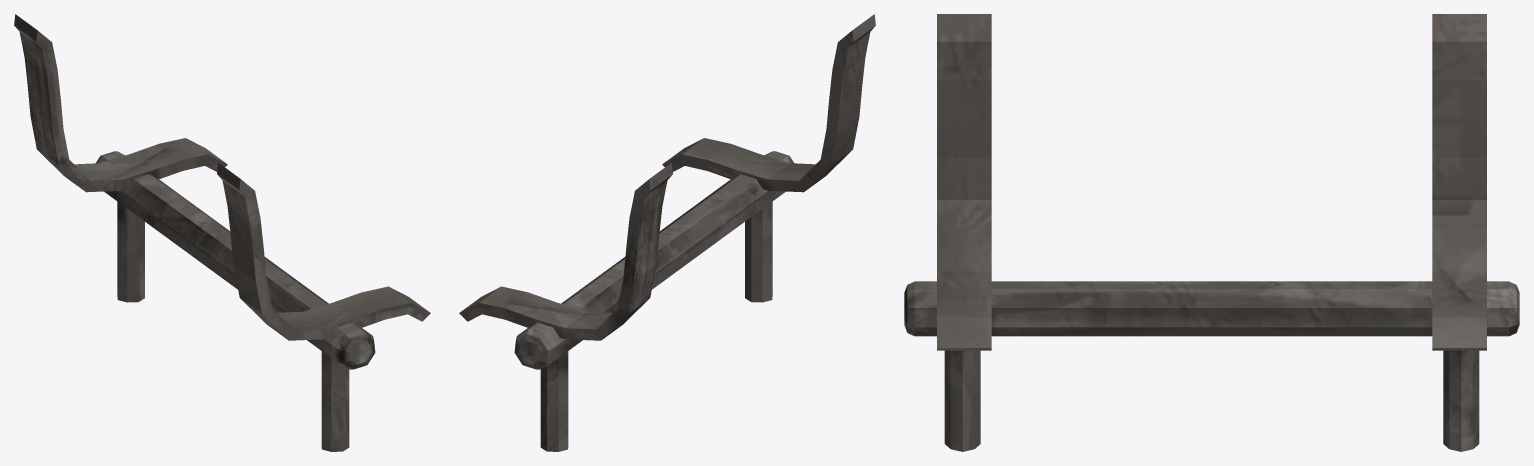
The model's file is strProp_19.glb.
3 renders of one model, left to right at view 1: azimuth 30°, elevation 25°; view 2: azimuth 150°, elevation 25°; view 3: azimuth 270°, elevation 25°, orthographic. The views are drawn at different scales.
Visible parts, largest first — view 1: geometry_0; view 2: geometry_0; view 3: geometry_0.
Boxes of the visible parts, <box> form: geometry_0: <box>14,14,430,451</box>; geometry_0: <box>459,14,875,451</box>; geometry_0: <box>904,14,1519,451</box>.
Bounding box in the file's own units: 0.5876 × 0.8813 × 1.34.
Materials: 1 (1 with a texture image).
